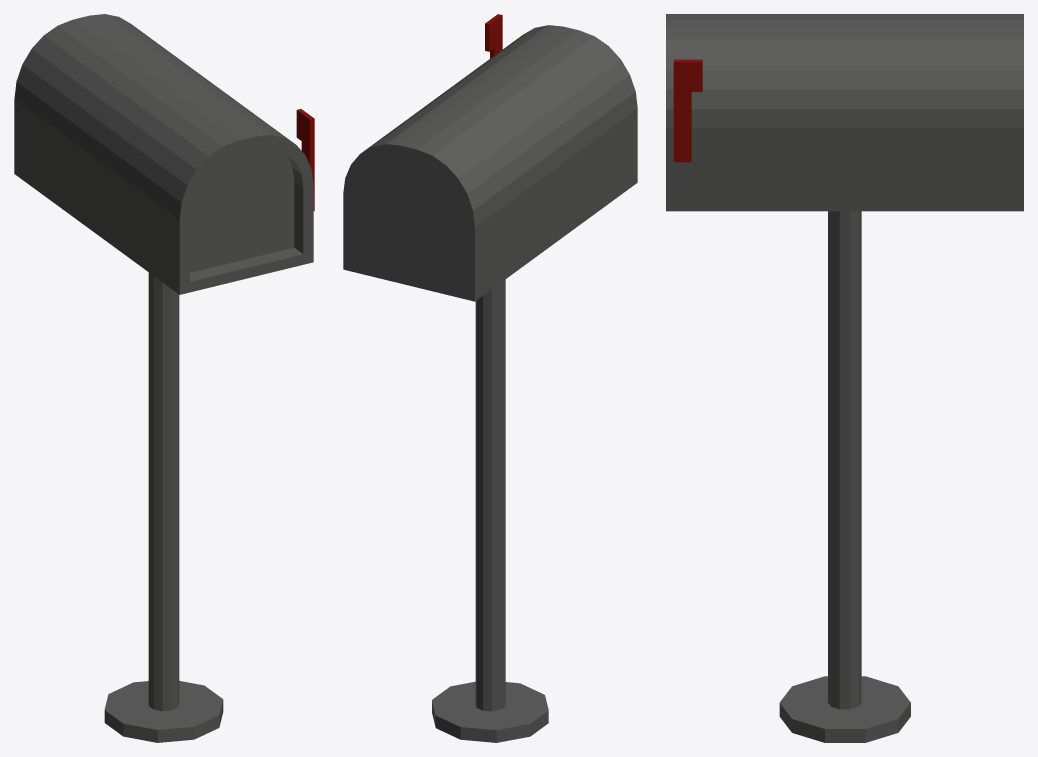
The model's file is Boite aux lettres 1.fbx.
3 views of the same model, side by side, from view 1: azimuth 30°, elevation 25°; view 2: azimuth 150°, elevation 25°; view 3: azimuth 270°, elevation 25° (orthographic). The views are drawn at different scales.
Parts seen in each view (by area): view 1: Cube; view 2: Cube; view 3: Cube.
Part boxes in pixels (x1,y1,x2,y2): Cube: (14, 14, 314, 742); Cube: (343, 14, 637, 742); Cube: (666, 14, 1023, 742).
Bounding box in the file's own units: 49.85 × 103 × 220.
1 material, 1 textured.
